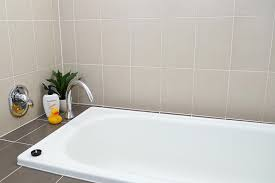bathub: (13, 105, 275, 183)
